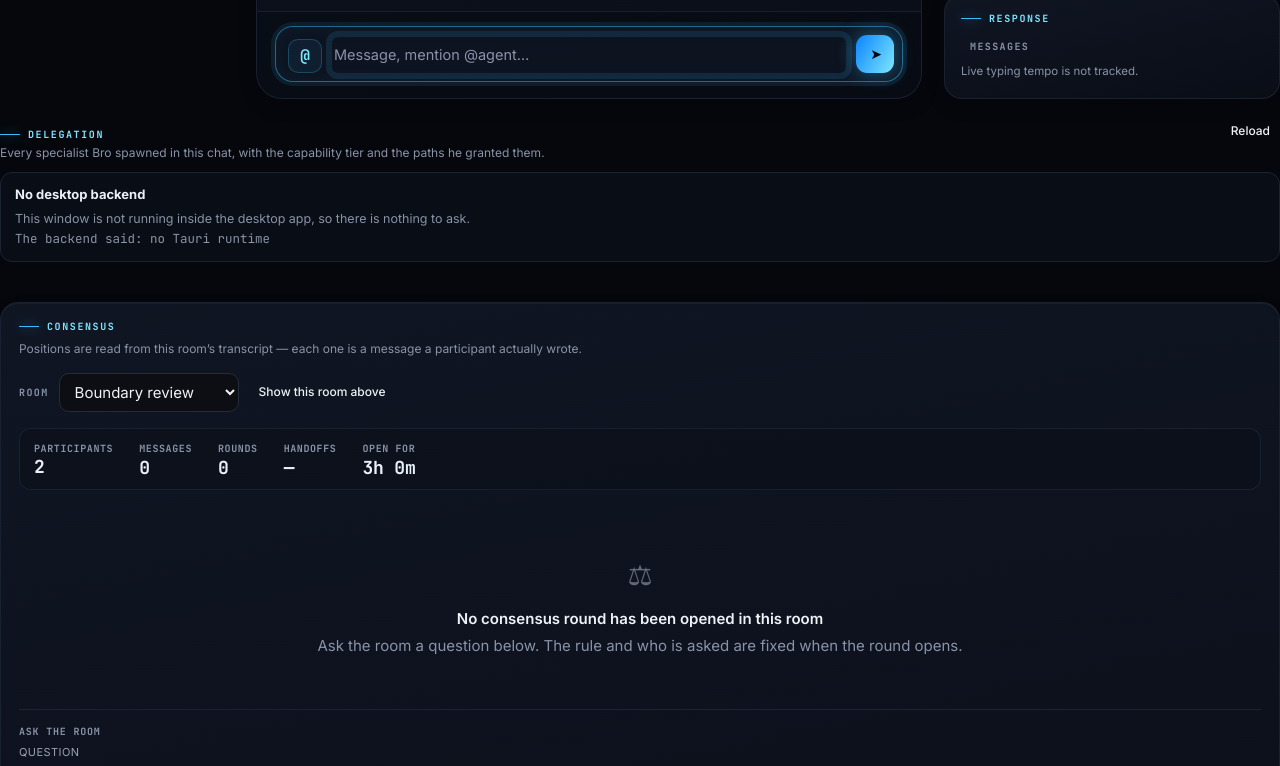
Test: GroupChat — who gets asked is this room's roster, or nobody › a room whose roster read answered is offered its own participants
(page scrolled)
Select "Release review" in the dropdown labelled "Room" at (149, 392), box [59, 372, 239, 411]
(page scrolled)
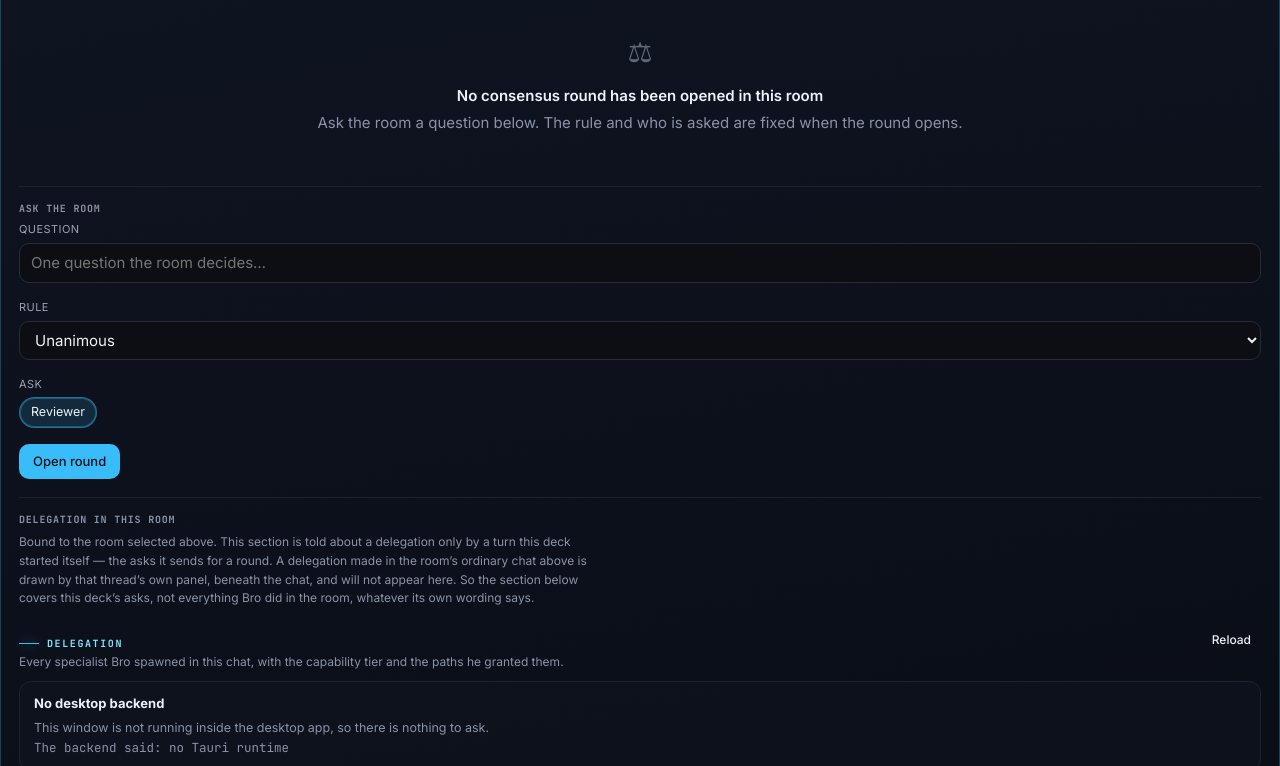
Expected: the button "Open round" is enabled, [19, 444, 120, 479]
Expected: the element with class "cs-pick" reads "Reviewer", [19, 397, 97, 428]
